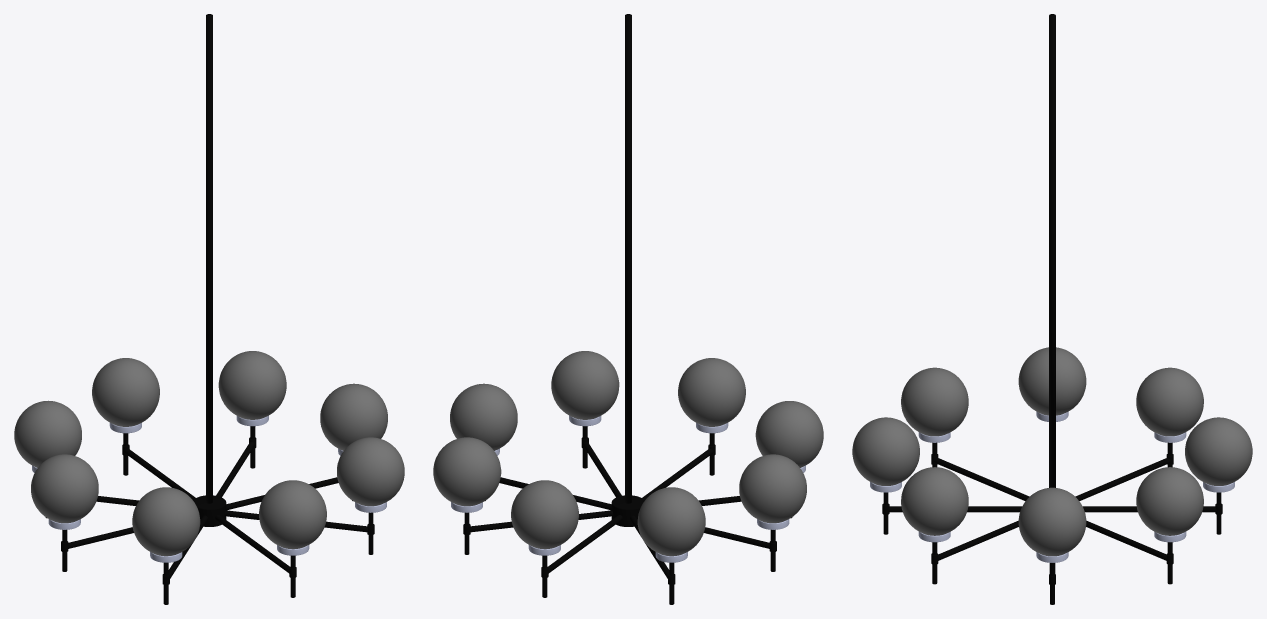
Rendered from Chandelier.fbx.
3 views of the same model, side by side, from view 1: azimuth 30°, elevation 25°; view 2: azimuth 150°, elevation 25°; view 3: azimuth 270°, elevation 25° (orthographic).
Parts seen in each view (by area): view 1: Sphere030, Sphere028, Sphere034, Sphere022, Sphere024, Sphere032, Cylinder051, Sphere020, Sphere026, Cylinder048, Cylinder080; view 2: Sphere022, Sphere026, Sphere028, Sphere034, Sphere032, Sphere024, Cylinder051, Sphere030, Sphere020, Cylinder048, Cylinder060; view 3: Sphere030, Sphere020, Sphere026, Sphere022, Sphere034, Sphere024, Sphere032, Cylinder051, Sphere028, Cylinder065, Cylinder075, Cylinder055 (+1 smaller).
Part boxes in pixels (x1,y1,x2,y2): Sphere030: [132, 487, 200, 556]; Sphere028: [31, 454, 98, 523]; Sphere034: [337, 437, 404, 506]; Sphere022: [218, 351, 286, 419]; Sphere024: [92, 358, 159, 426]; Sphere032: [259, 480, 326, 549]; Cylinder051: [206, 14, 212, 503]; Sphere020: [320, 383, 387, 450]; Sphere026: [14, 400, 81, 467]; Cylinder048: [193, 495, 226, 526]; Cylinder080: [215, 515, 289, 573]; Sphere022: [433, 437, 501, 506]; Sphere026: [637, 487, 705, 556]; Sphere028: [739, 454, 806, 523]; Sphere034: [551, 351, 619, 419]; Sphere032: [678, 358, 745, 426]; Sphere024: [511, 480, 578, 549]; Cylinder051: [625, 14, 631, 503]; Sphere030: [755, 401, 823, 467]; Sphere020: [450, 383, 517, 450]; Cylinder048: [611, 495, 644, 526]; Cylinder060: [548, 515, 622, 573]; Sphere030: [901, 367, 968, 436]; Sphere020: [1018, 487, 1086, 556]; Sphere026: [1136, 367, 1203, 436]; Sphere022: [1136, 467, 1203, 535]; Sphere034: [901, 467, 968, 535]; Sphere024: [1185, 417, 1252, 485]; Sphere032: [852, 417, 919, 485]; Cylinder051: [1049, 14, 1055, 487]; Sphere028: [1018, 347, 1086, 415]; Cylinder065: [1075, 458, 1170, 500]; Cylinder075: [934, 458, 1029, 500]; Cylinder055: [1086, 520, 1166, 560].
Size of the model in its own units: 994 by 1420 by 994.
